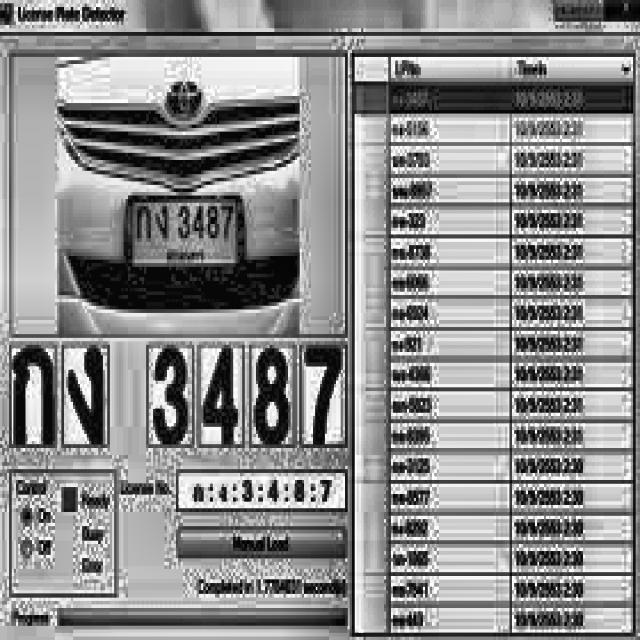license-plate: (120, 182, 256, 289)
